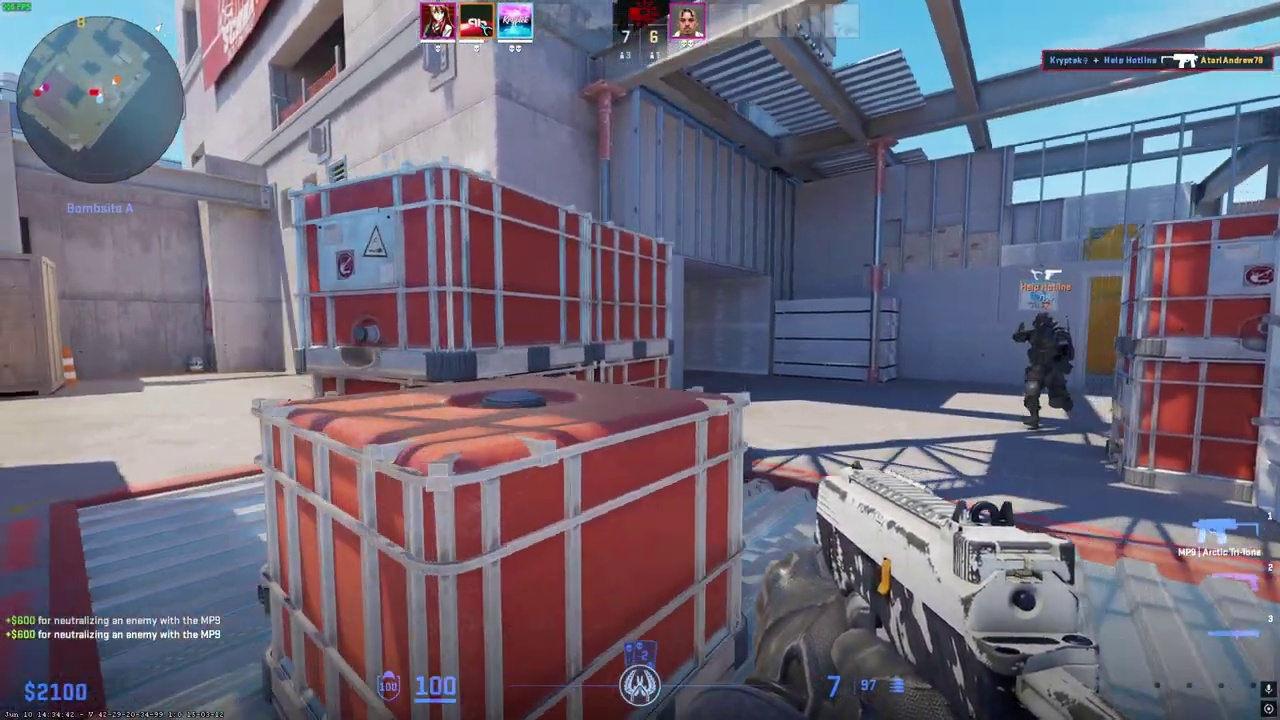CT: (1017, 312, 1075, 428)
